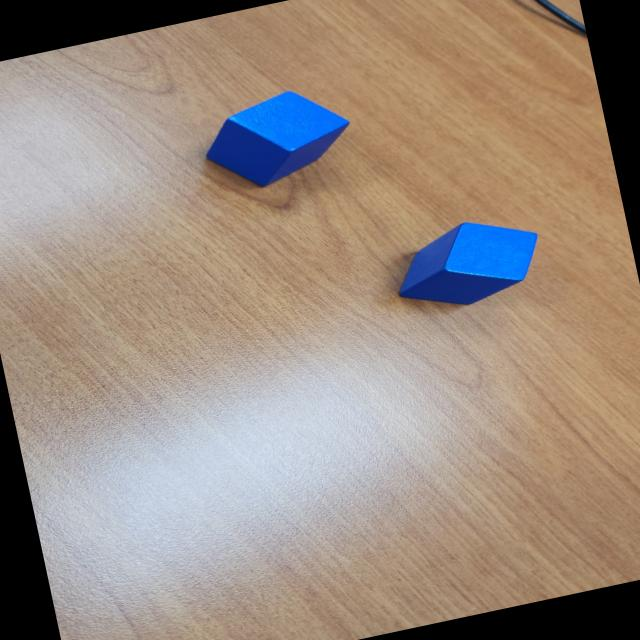blue: (194, 78, 359, 197), (384, 206, 549, 320)
